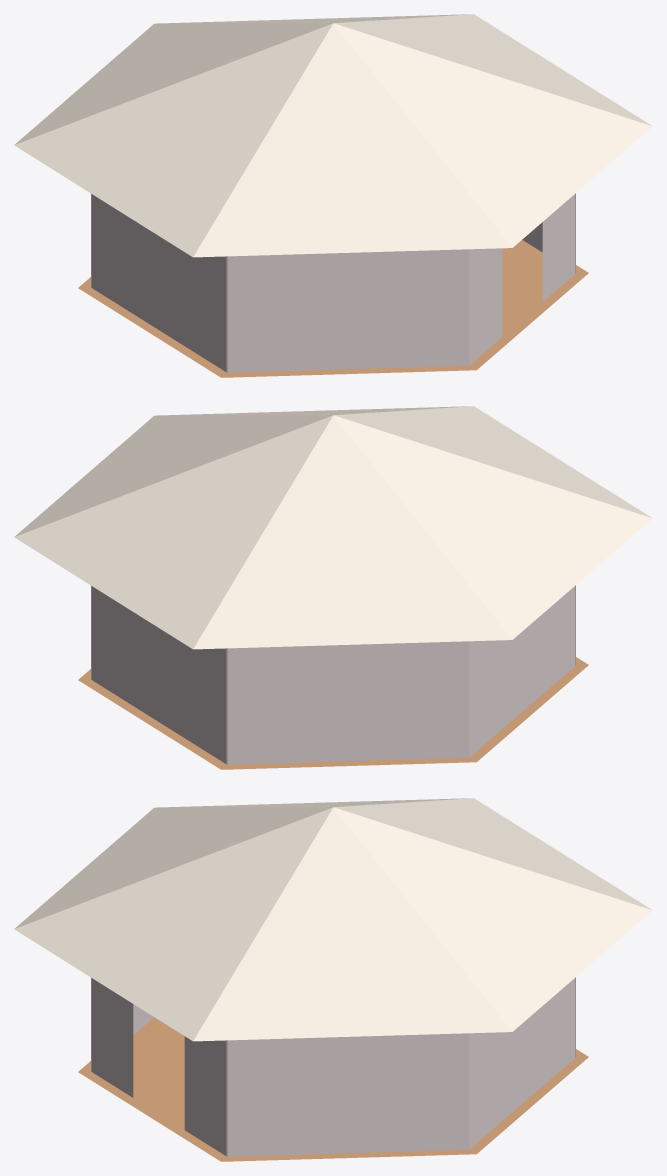
The model's file is zon_room_gift_raw.glb.
3 views of the same model, one above another, from view 1: azimuth 30°, elevation 25°; view 2: azimuth 150°, elevation 25°; view 3: azimuth 270°, elevation 25° (orthographic).
Visible parts, largest first — view 1: SM_zon_room_gift_room_ceiling_xm1_zm1_raw, SM_zon_room_gift_room_paper_xm1_zm1_raw, SM_zon_room_gift_room_floor_xm1_zm1_raw; view 2: SM_zon_room_gift_room_ceiling_xm1_zm1_raw, SM_zon_room_gift_room_paper_xm1_zm1_raw, SM_zon_room_gift_room_floor_xm1_zm1_raw; view 3: SM_zon_room_gift_room_ceiling_xm1_zm1_raw, SM_zon_room_gift_room_paper_xm1_zm1_raw, SM_zon_room_gift_room_floor_xm1_zm1_raw.
Boxes of the visible parts, box(x1,y1,x2,y2) form: SM_zon_room_gift_room_ceiling_xm1_zm1_raw: box(14, 14, 652, 257); SM_zon_room_gift_room_paper_xm1_zm1_raw: box(91, 193, 575, 372); SM_zon_room_gift_room_floor_xm1_zm1_raw: box(78, 240, 588, 377); SM_zon_room_gift_room_ceiling_xm1_zm1_raw: box(14, 406, 652, 649); SM_zon_room_gift_room_paper_xm1_zm1_raw: box(91, 585, 575, 764); SM_zon_room_gift_room_floor_xm1_zm1_raw: box(78, 657, 588, 769); SM_zon_room_gift_room_ceiling_xm1_zm1_raw: box(14, 798, 652, 1041); SM_zon_room_gift_room_paper_xm1_zm1_raw: box(91, 977, 575, 1156); SM_zon_room_gift_room_floor_xm1_zm1_raw: box(78, 1017, 588, 1161).
Bounding box in the file's own units: 11.91 × 5.9 × 13.22.
